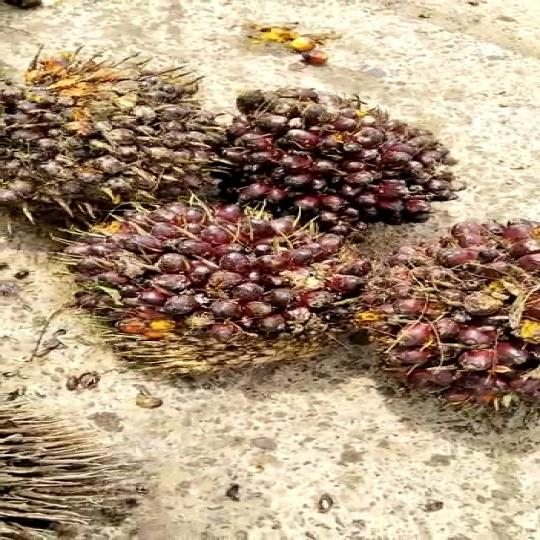kurang masak: (68, 199, 366, 382), (370, 221, 540, 427), (0, 59, 223, 206), (226, 97, 461, 232)
